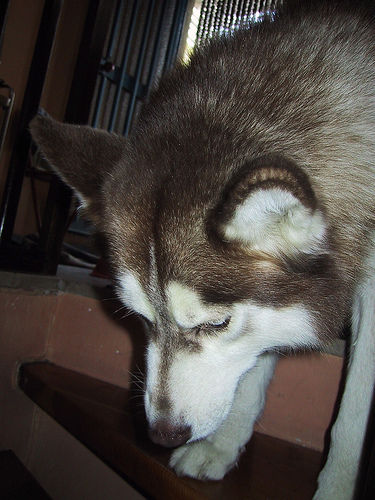dog: (31, 1, 373, 498)
